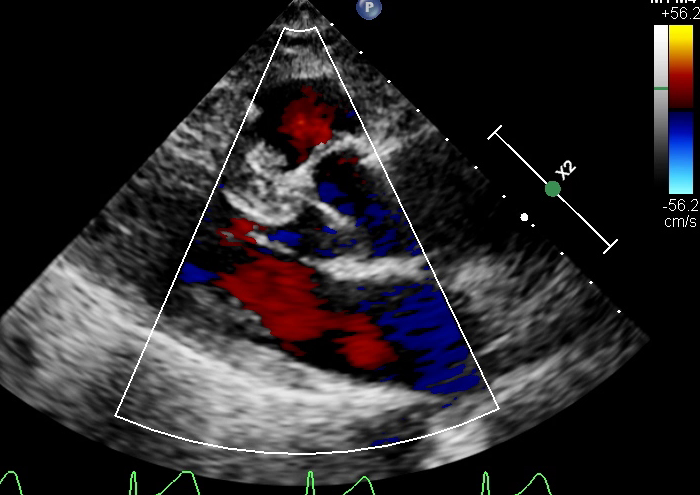AR: (219, 191, 345, 296)
